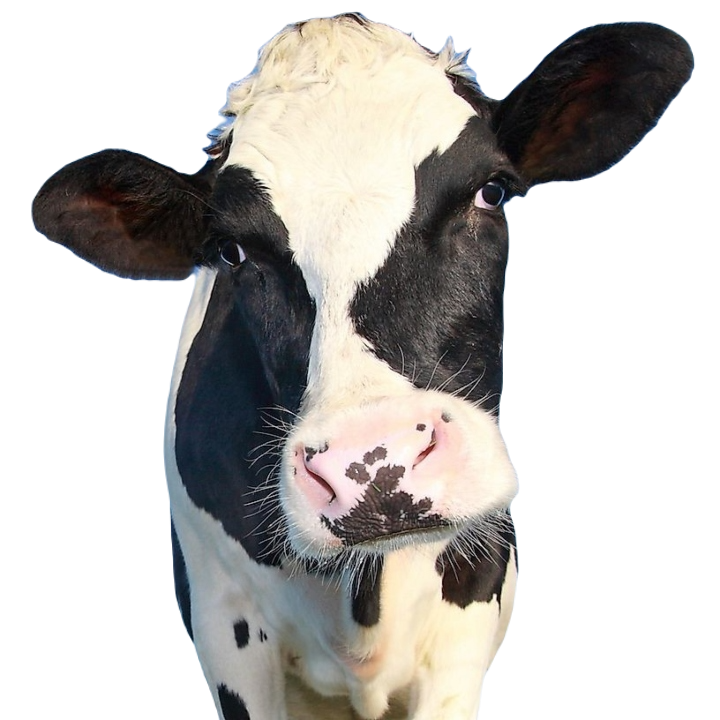Cow: (27, 6, 694, 719)
